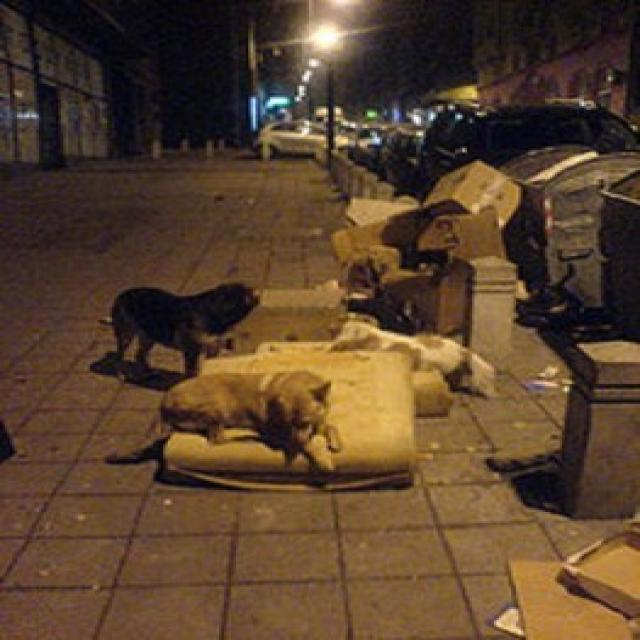Dog: (136, 373, 381, 468), (106, 262, 274, 356)
